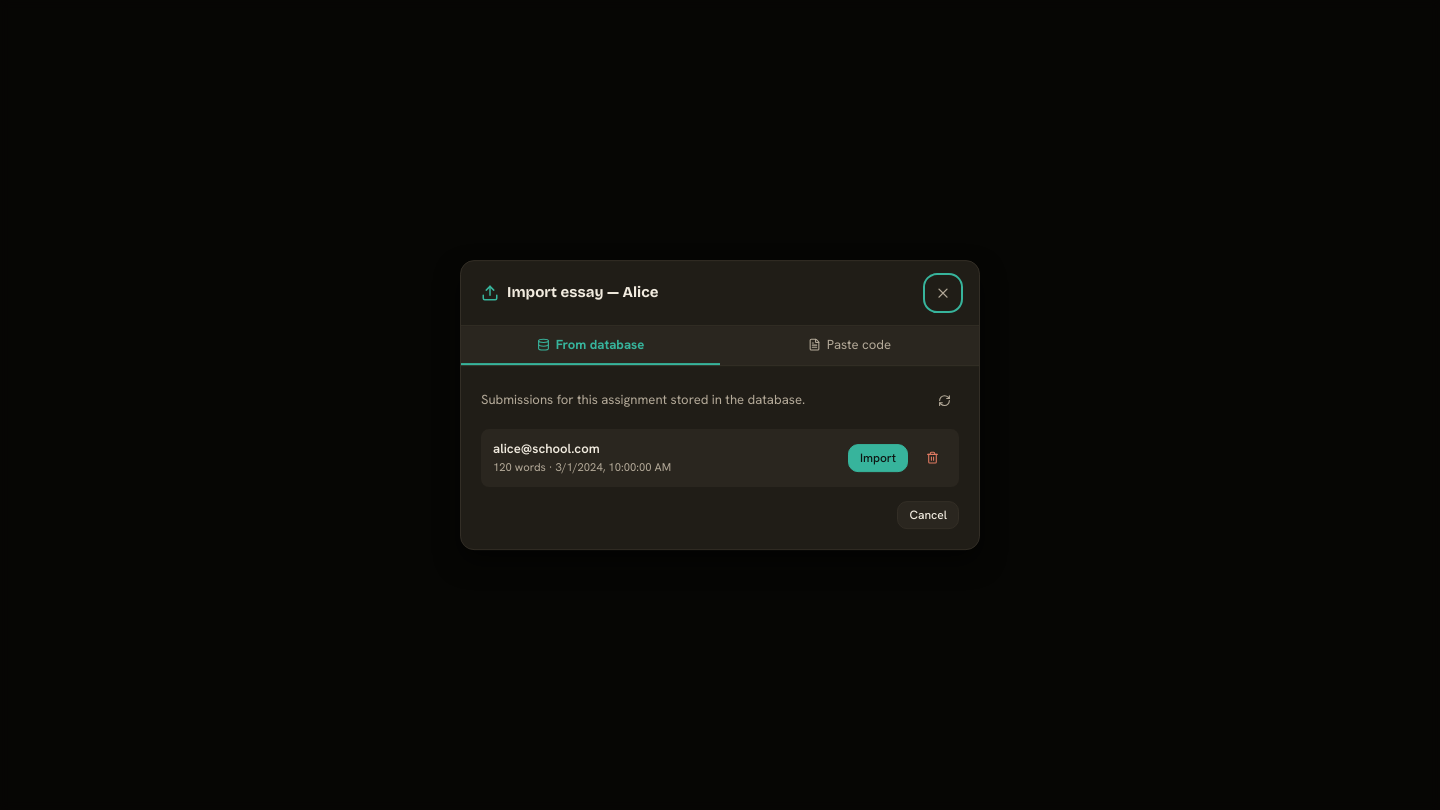
EssayImportModal › database tab › deletes a submission after confirmation
expect the text "alice@school.com" is shown: met, box [493,440,600,457]
Step 1. Click the button titled "tooltips.delete_submission" → (932, 458), box [918,444,947,472]
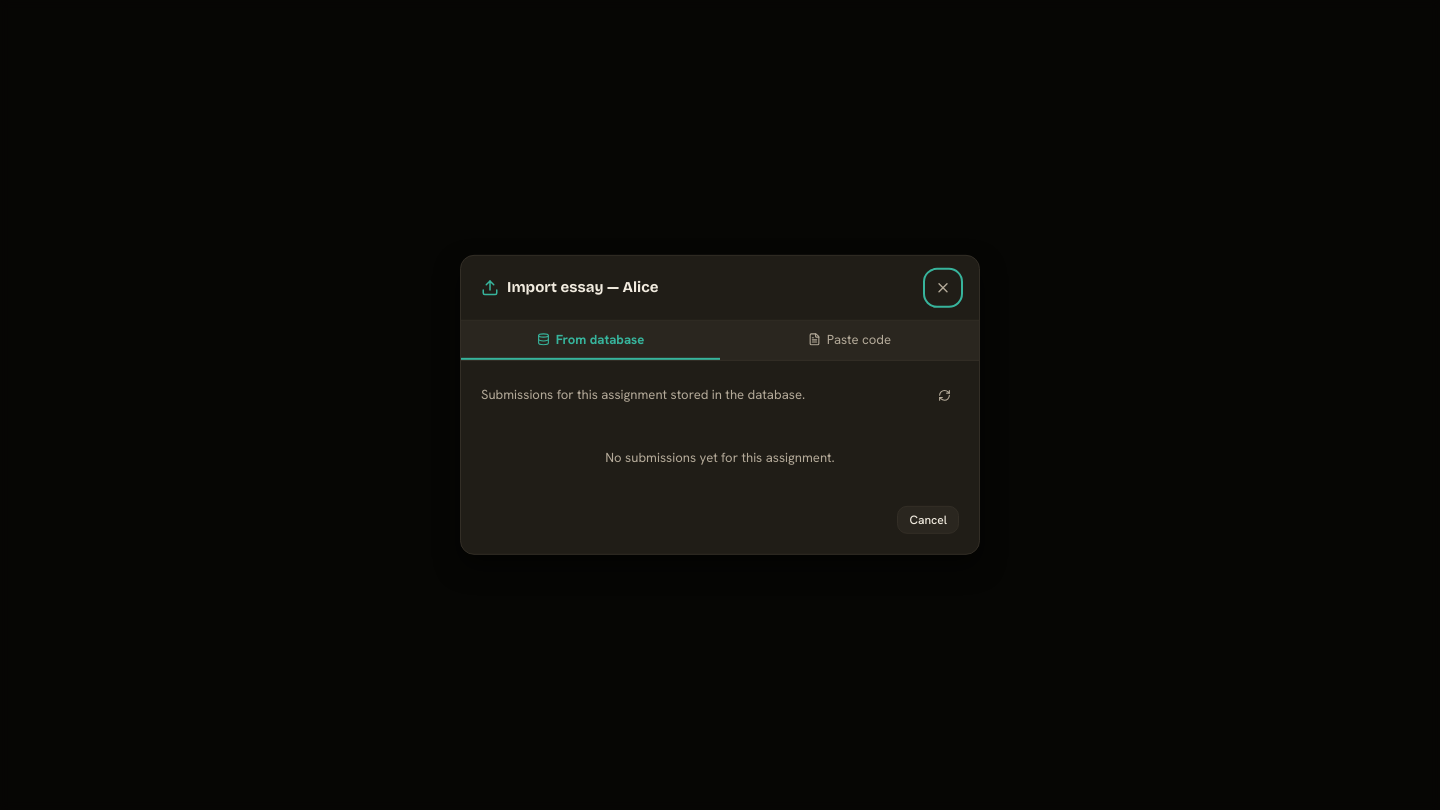
expect the text "alice@school.com" is gone: met
